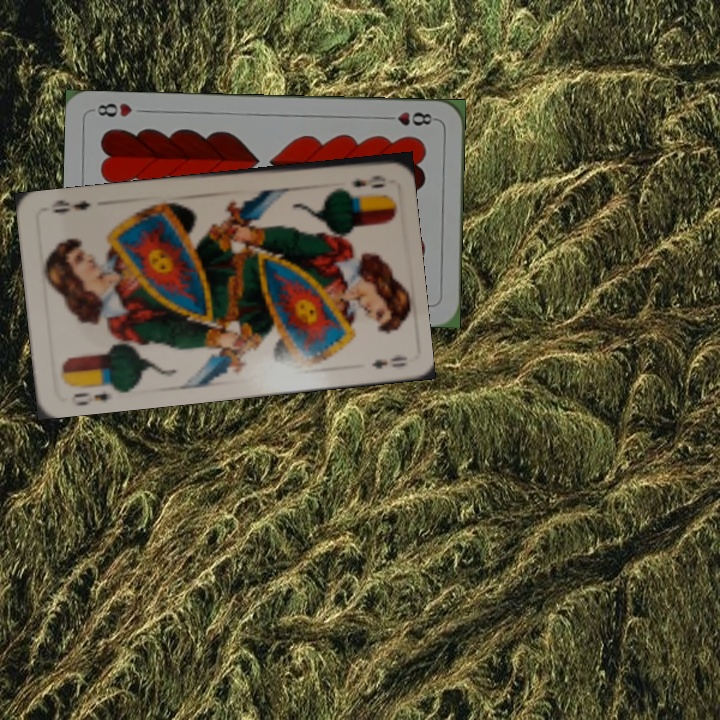EO: (70, 377, 119, 407), (347, 171, 388, 190)
H8: (380, 107, 439, 128)
